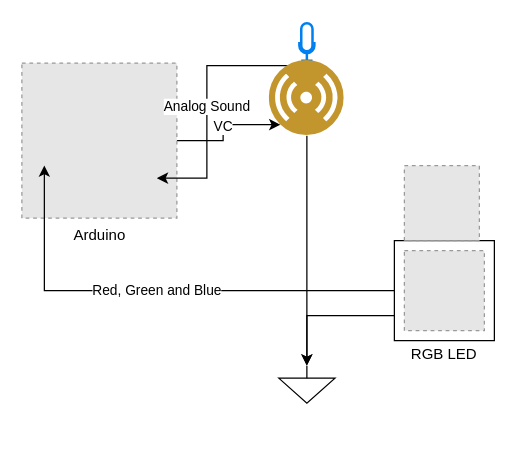
This 516x450 diagram has some shape labels left out. Grey dashed boxes stand in for pictures. The centre of each missing label's shape, as x and y in pixels:
Ground: the point at 306,383
Sound Sensor: the point at 306,97
